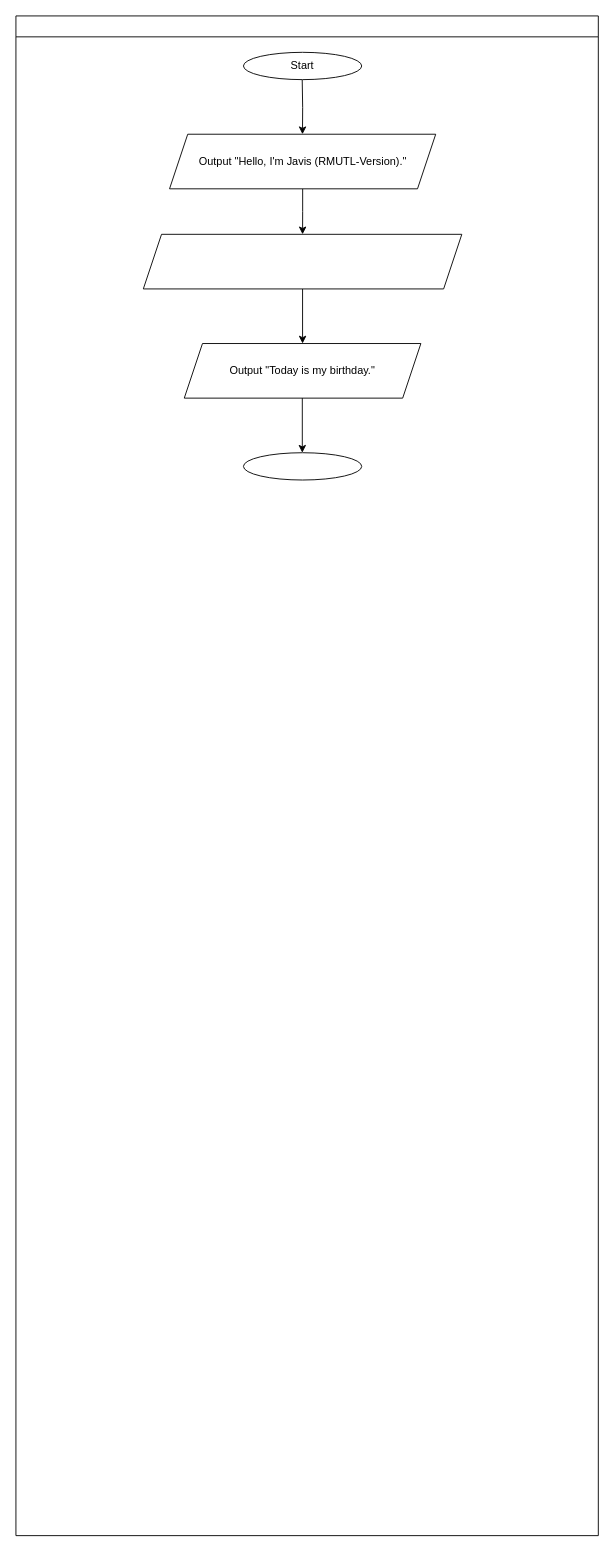
The diagram is 614 pixels wide and 1552 high, and some of its shapes have lost their labels. The centre of each missing label's shape, as x and y in pixels:
End: pixel 302 466
Output "This is my first time to coding with C language.": pixel 302 261
